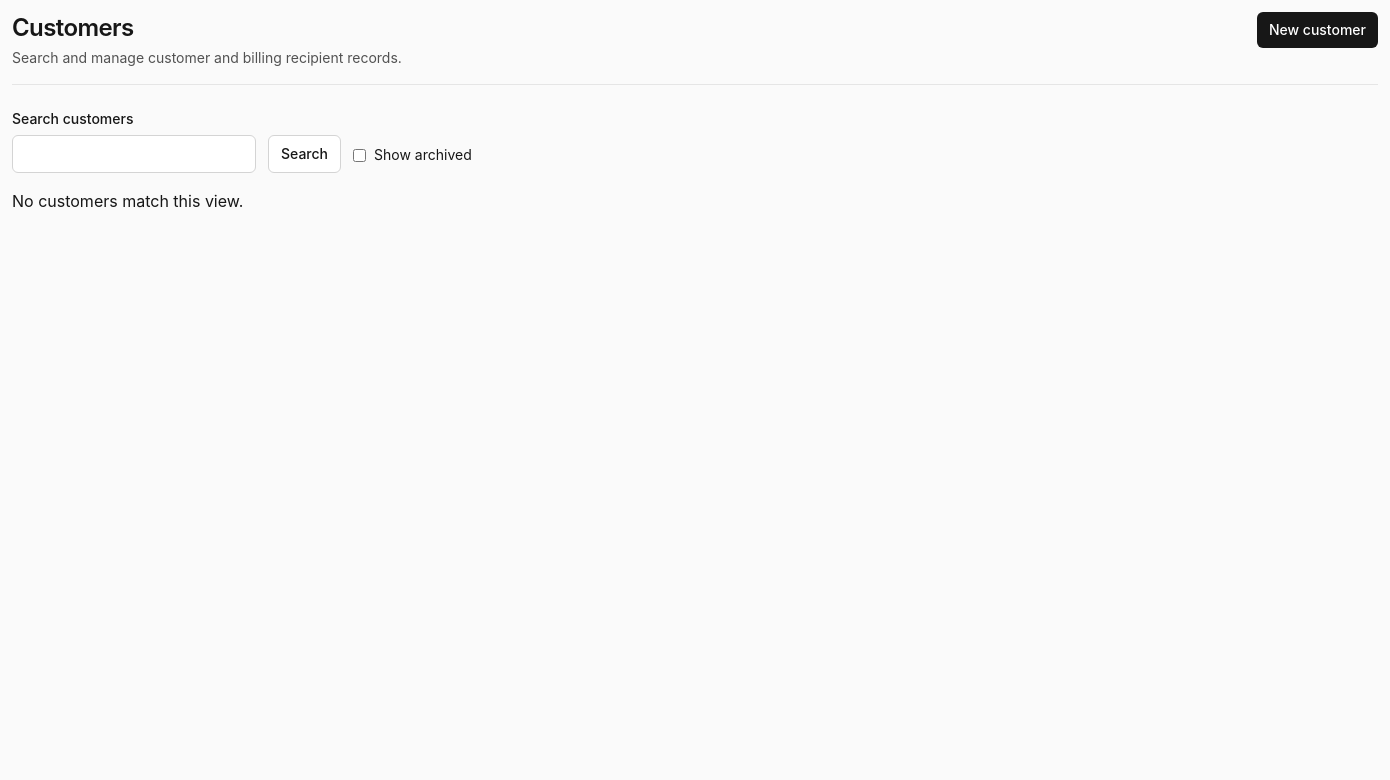
customer management › creates a customer and maps authoritative backend field errors
Expected: the text "No customers match this view." is shown, x1=12 y1=191 x2=243 y2=211
Click the button "New customer" at (1317, 30), box x1=1257 y1=12 x2=1378 y2=48
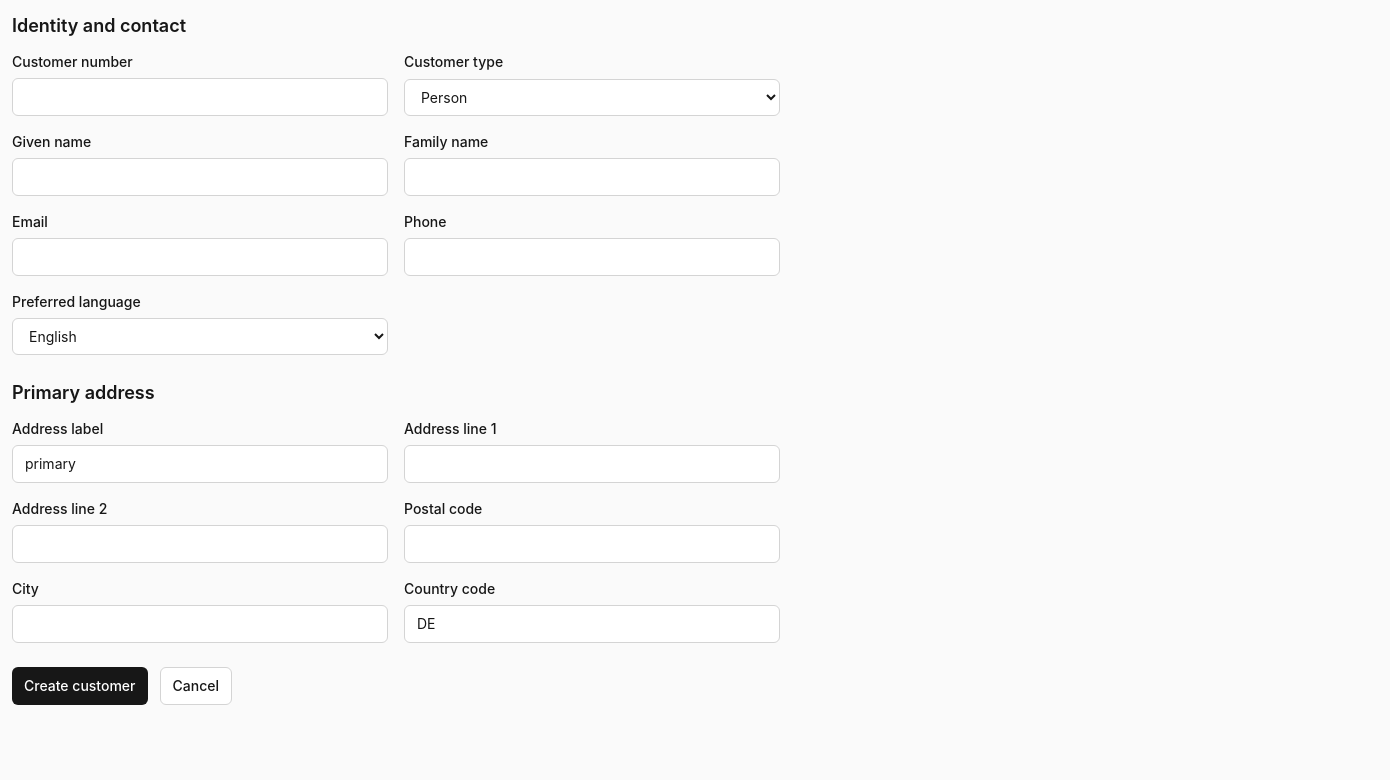
Type "C-0007" into the field labelled "Customer number" at (200, 97), box x1=12 y1=78 x2=388 y2=116
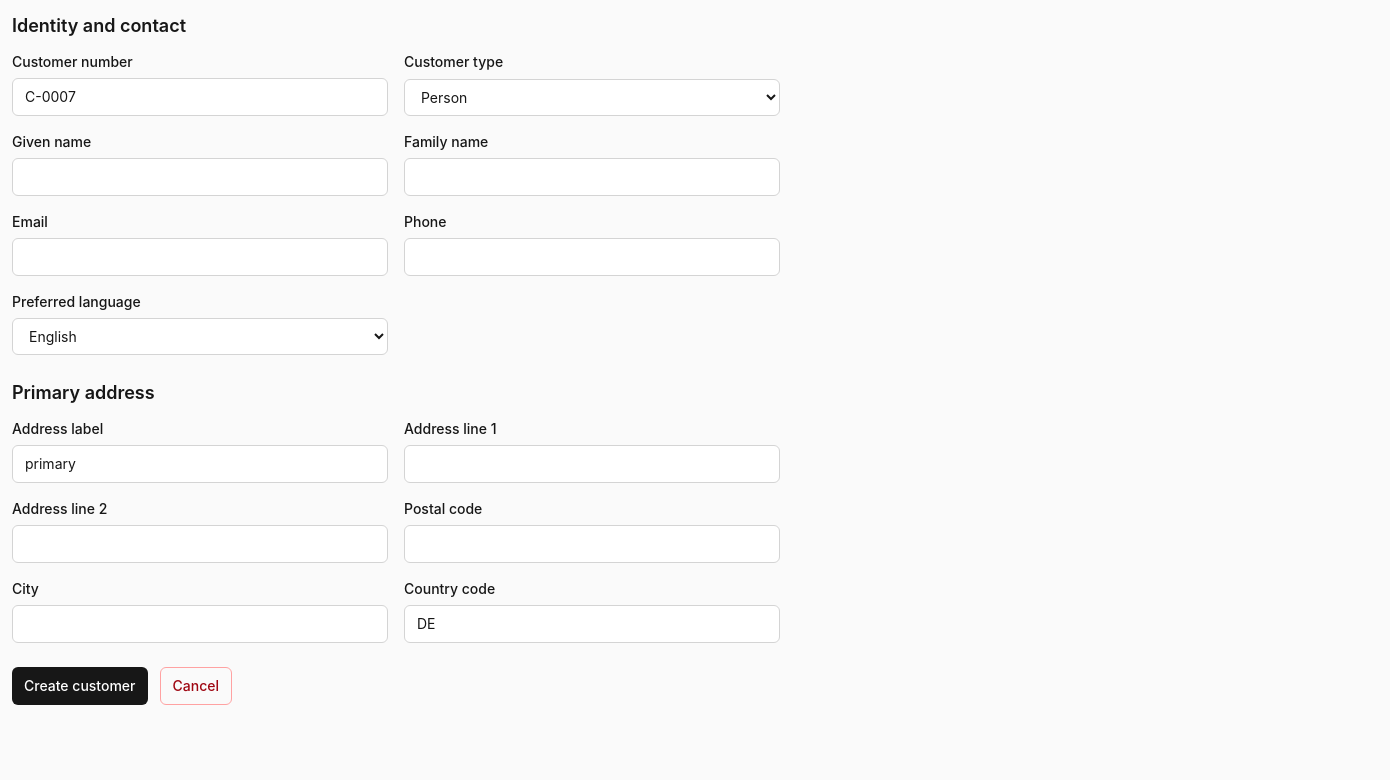
Type "Ada" into the field labelled "Given name" at (200, 177), box x1=12 y1=158 x2=388 y2=196
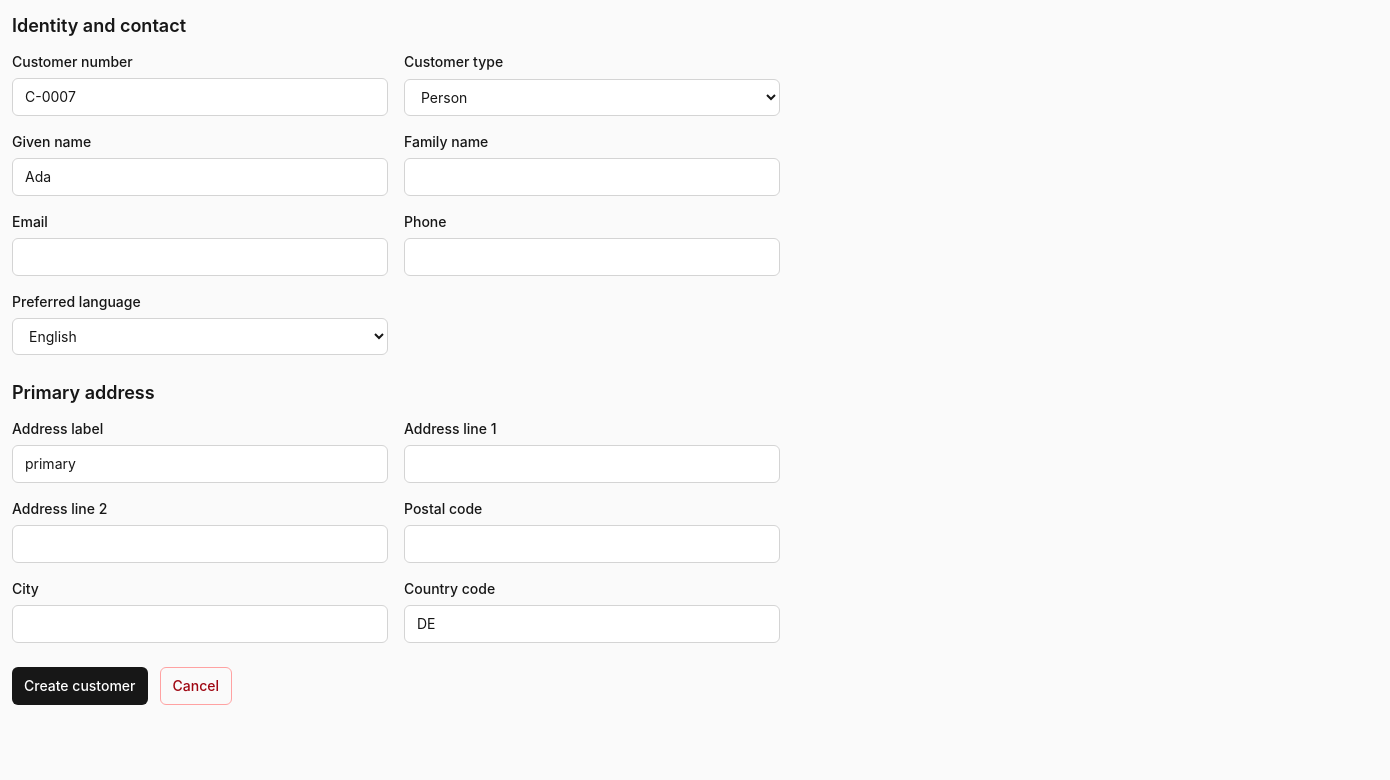
Type "Lovelace" into the field labelled "Family name" at (592, 177), box x1=404 y1=158 x2=780 y2=196
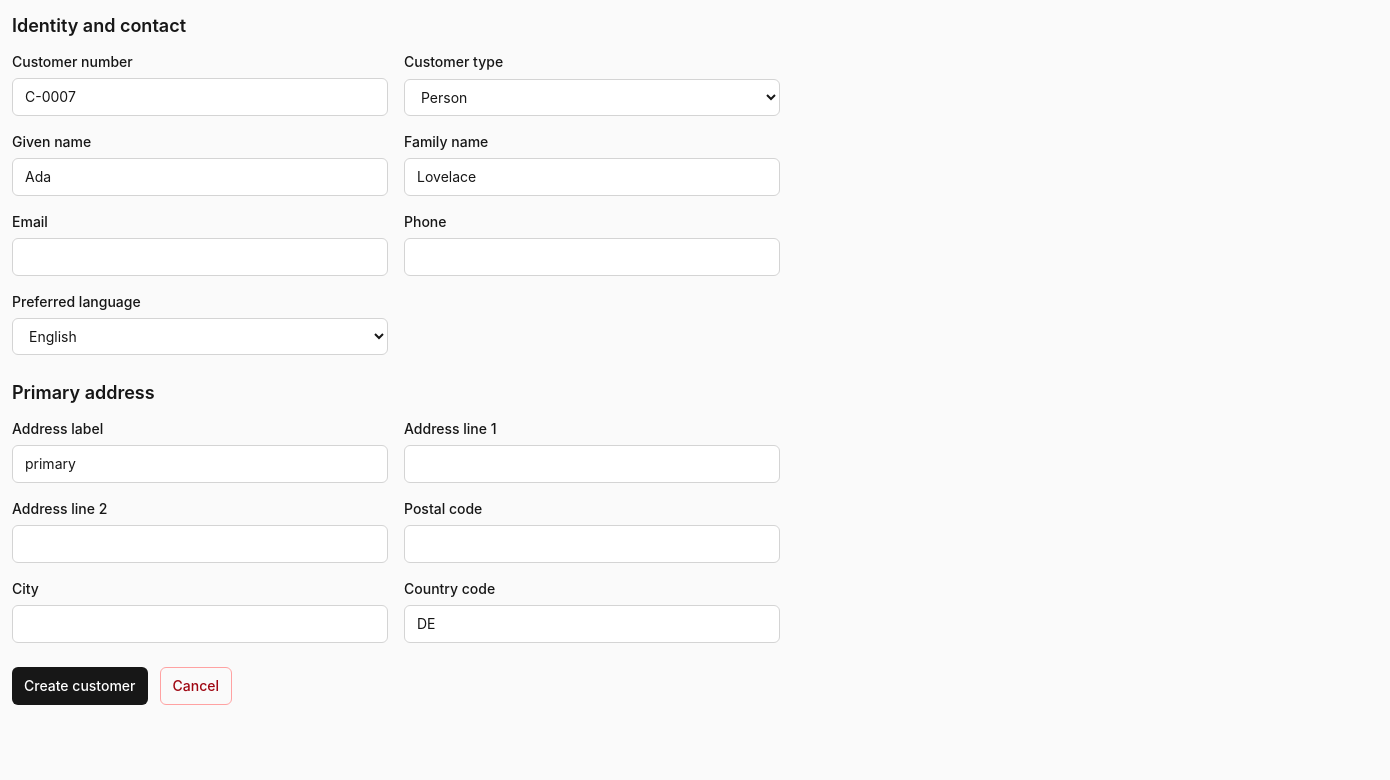
Click the button "Create customer" at (80, 686), box x1=12 y1=667 x2=148 y2=705
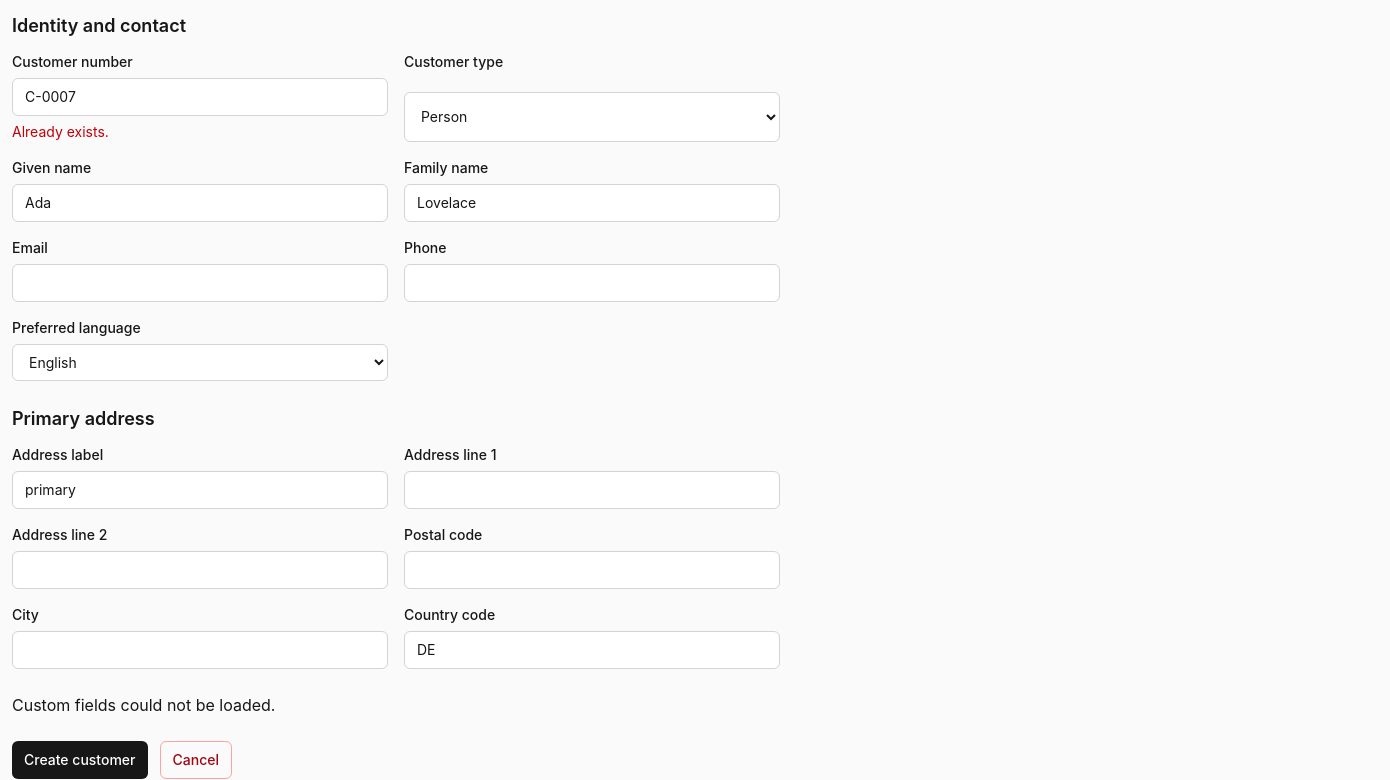
Now the text "Already exists." is shown, box x1=12 y1=123 x2=109 y2=140
Click the button "Create customer" at (80, 760), box x1=12 y1=741 x2=148 y2=779
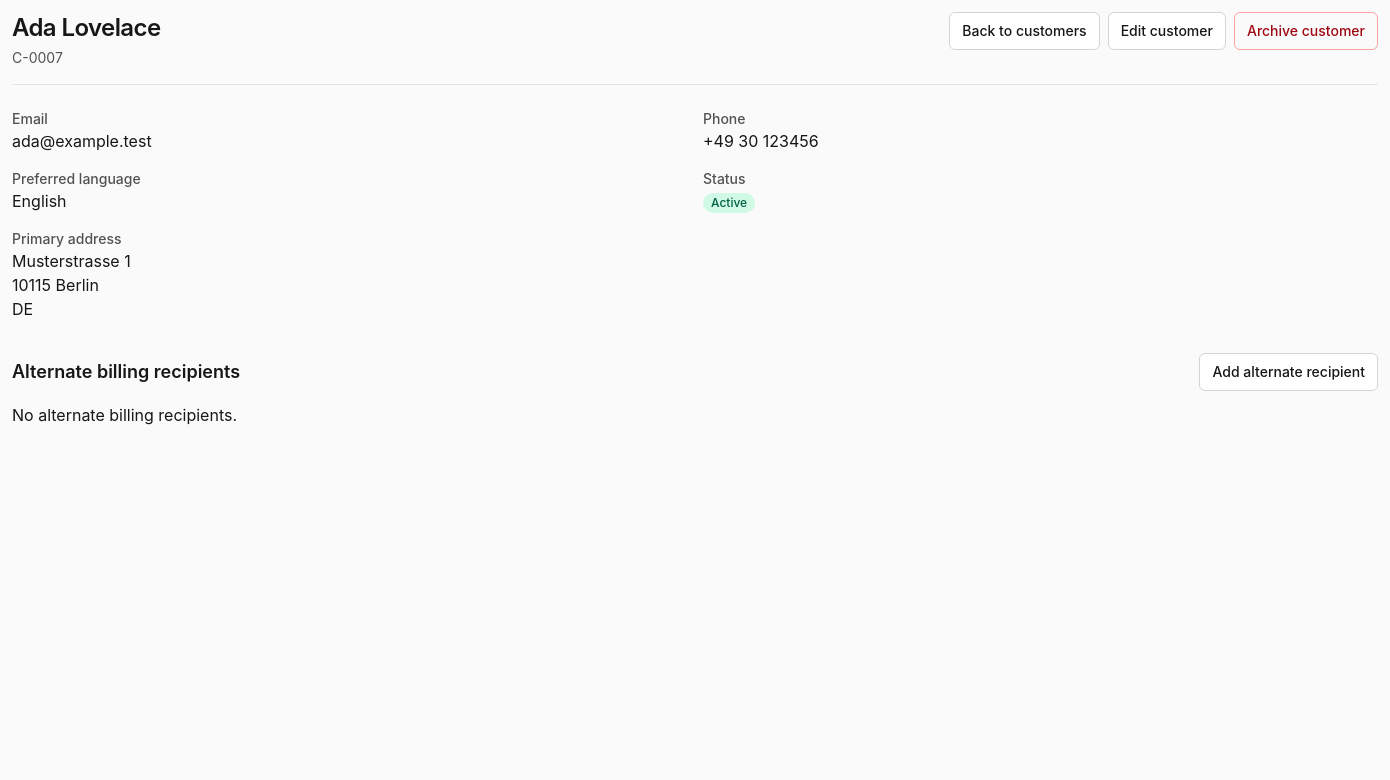
Now the heading "Ada Lovelace" is shown, box x1=12 y1=12 x2=160 y2=44
